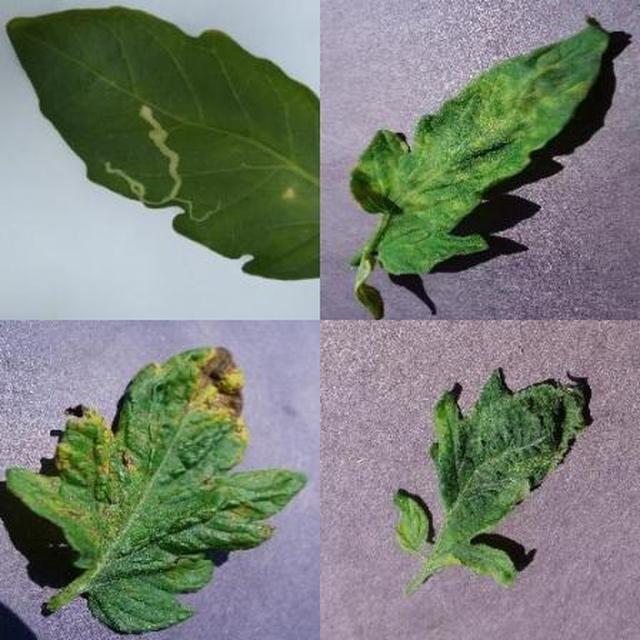Leaf Miner: (226, 202, 640, 640)
